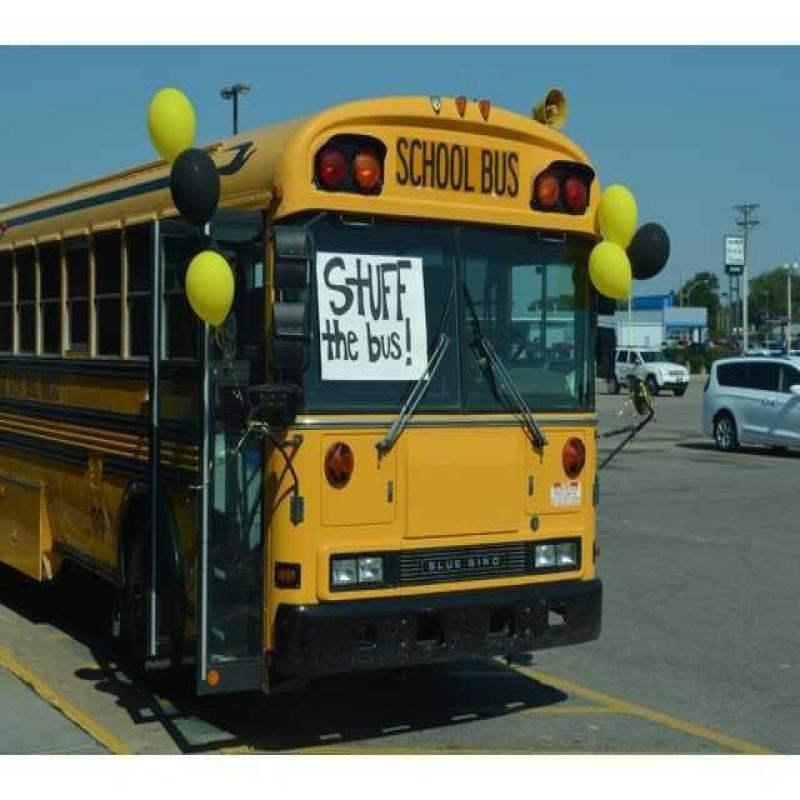bus: (2, 59, 622, 680)
